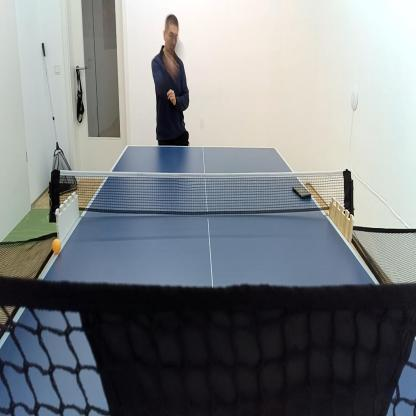Ball: (51, 237, 62, 255), (198, 114, 206, 132)
